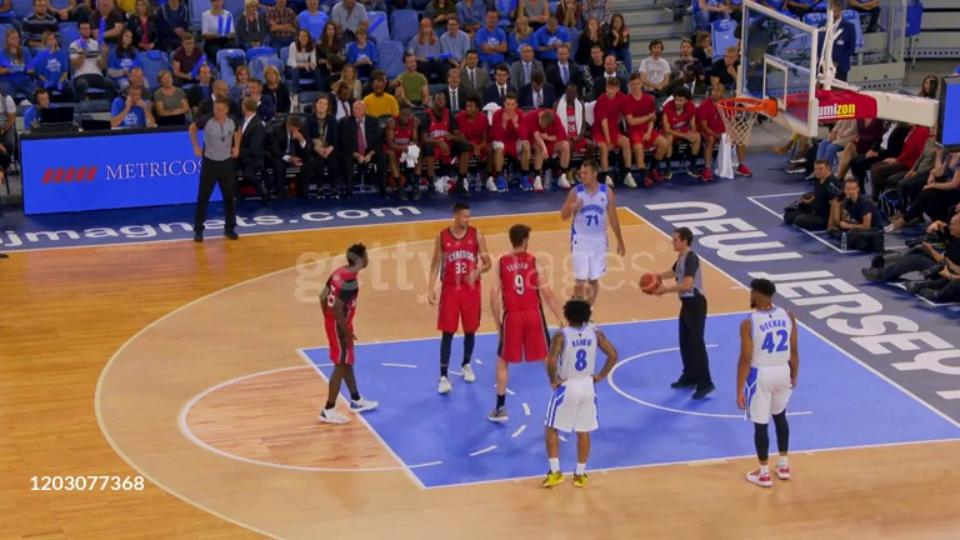hoop: (714, 98, 777, 119)
